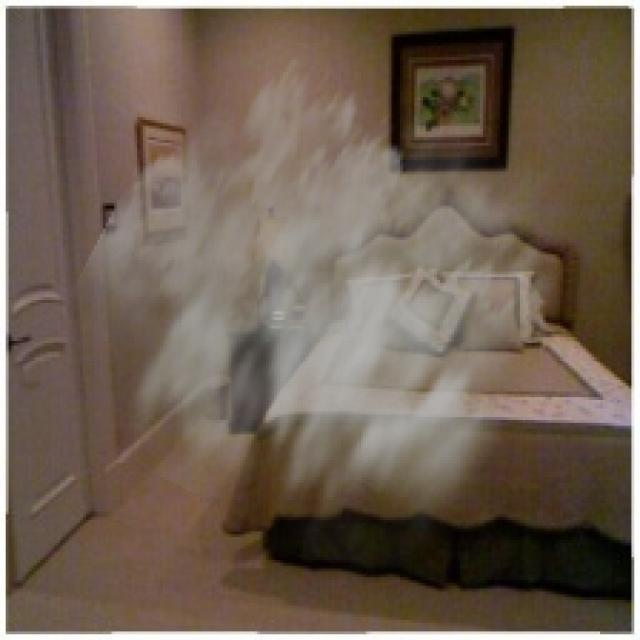Smoke: (57, 54, 580, 606)
